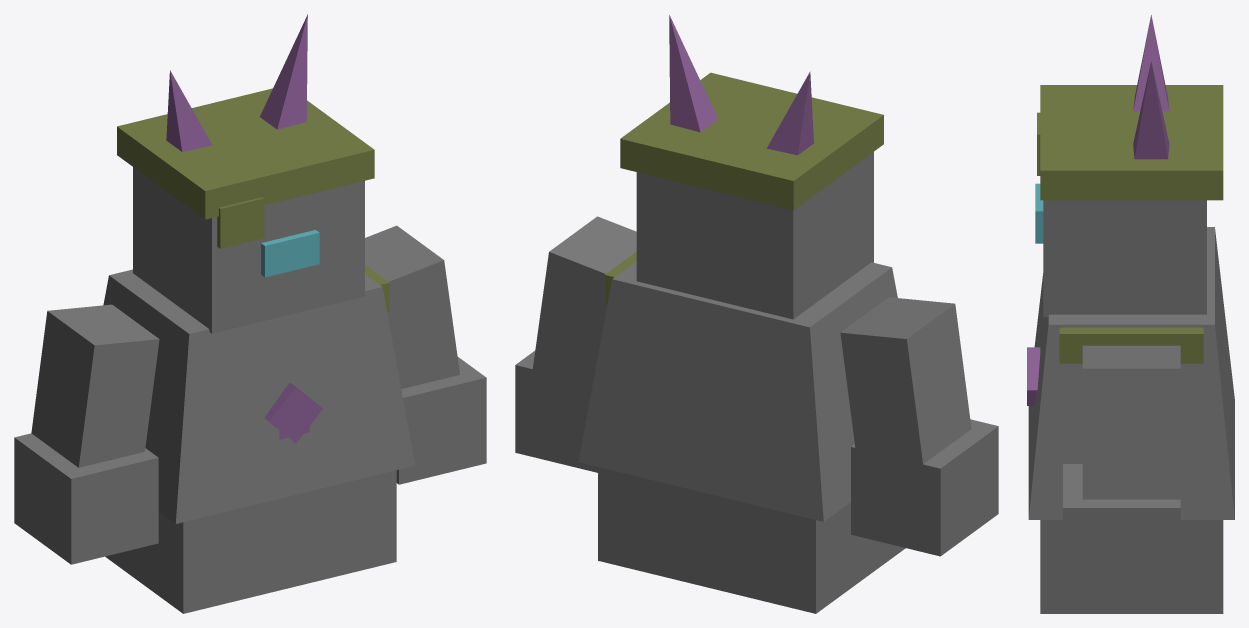
File: warden.glb
3 views of the same model, side by side, from view 1: azimuth 30°, elevation 25°; view 2: azimuth 150°, elevation 25°; view 3: azimuth 270°, elevation 25° (orthographic). The views are drawn at different scales.
Visible parts, largest first — view 1: warden; view 2: warden; view 3: warden.
Part boxes in pixels (x1=…): warden: x1=14, y1=14, x2=486, y2=613; warden: x1=515, y1=15, x2=998, y2=613; warden: x1=1027, y1=15, x2=1234, y2=613.
Size of the model in its own units: 1.52 by 1.81 by 0.6357.
